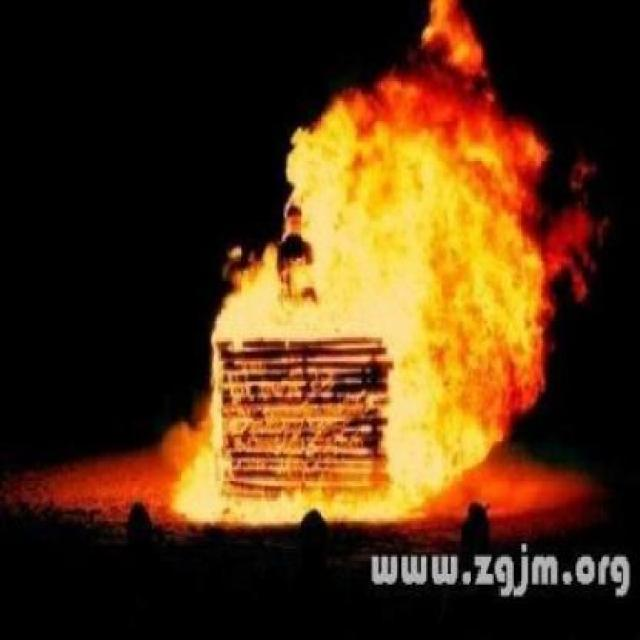Fire: (165, 0, 614, 537)
